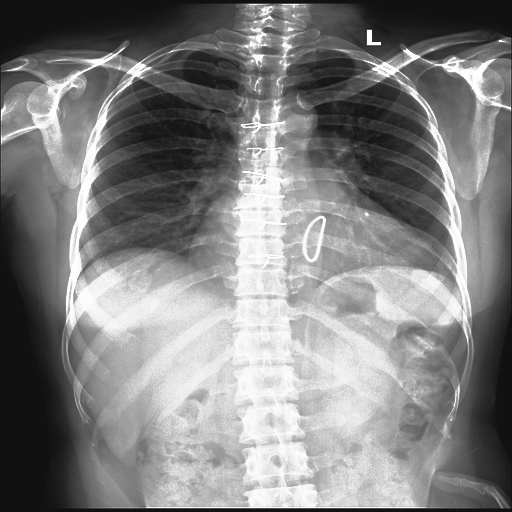Nodule/Mass: (185, 204, 436, 276)
